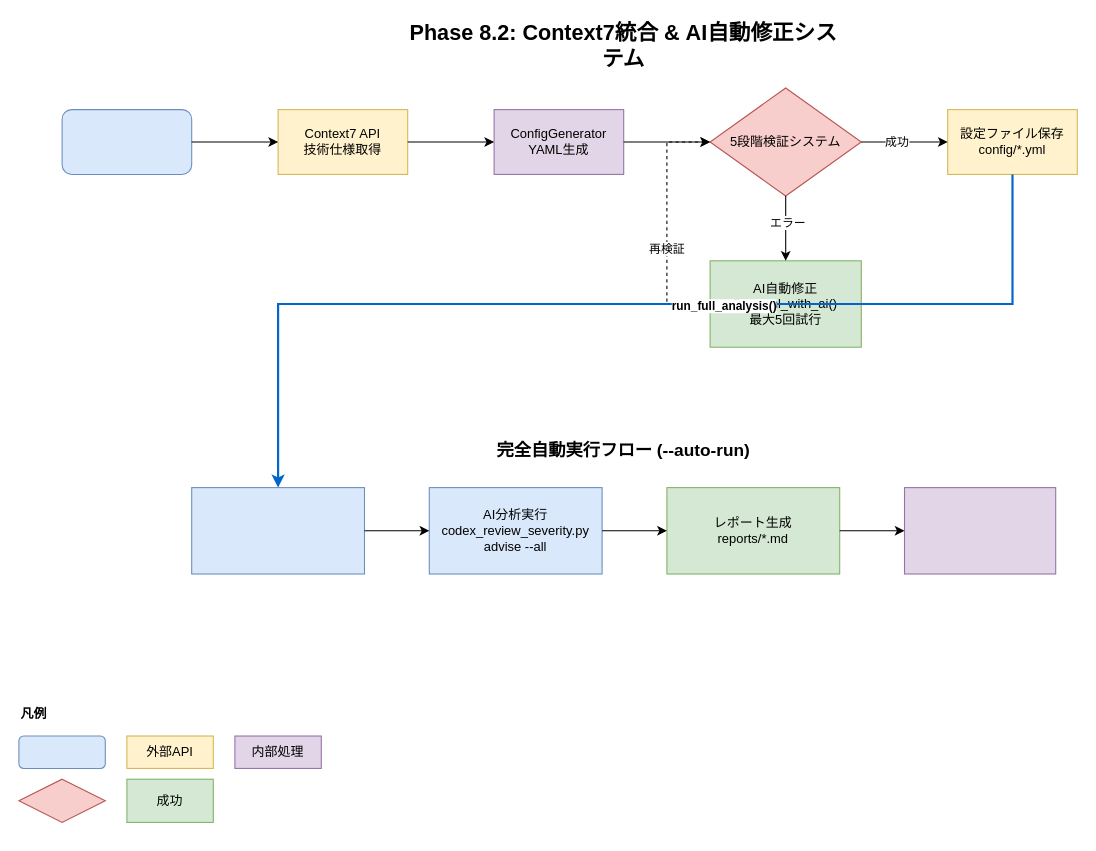
This 1096x851 diagram has some shape labels left out. The centre of each missing label's shape, as x and y in pixels:
インデックス作成 codex_review_severity.py index: [277,530]
ダッシュボード 結果表示: [979,530]
ユーザー入力 技術スタック選択: [126,141]
入力/出力: [61,751]
検証: [61,800]
